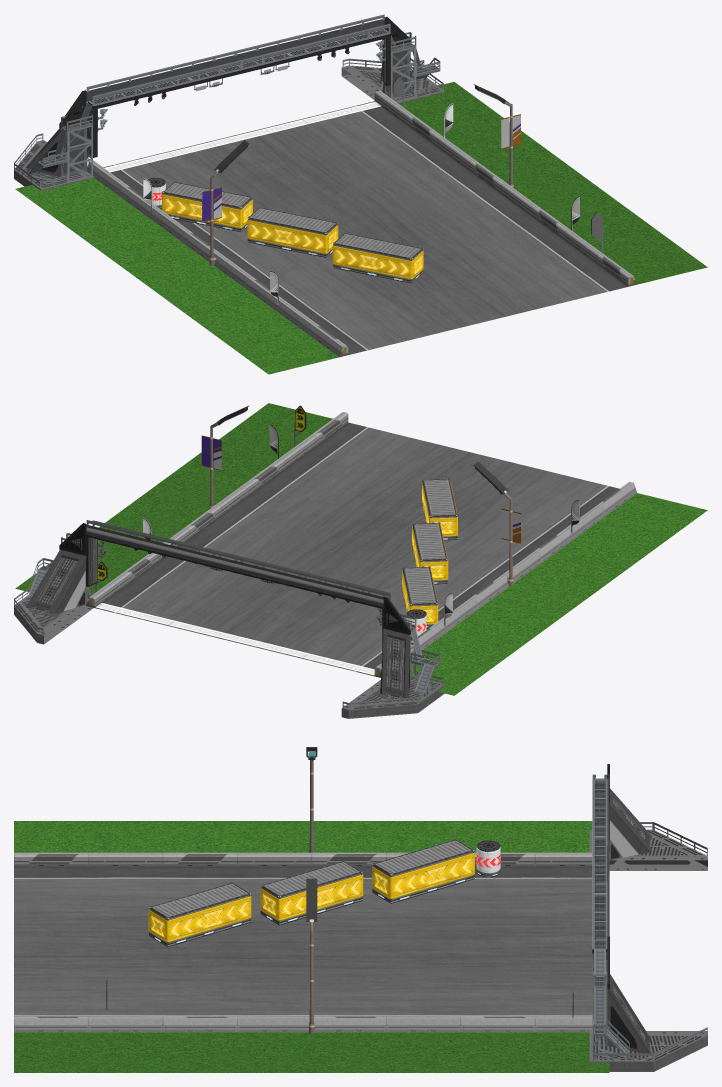
The model's file is T1 - Ground Checkpoint.fbx.
3 views of the same model, one above another, from view 1: azimuth 30°, elevation 25°; view 2: azimuth 150°, elevation 25°; view 3: azimuth 270°, elevation 25° (orthographic). The views are drawn at different scales.
Parts seen in each view (by area): view 1: standard_road, standard_ground_grass, gate, wall_straight_ground, bridge, line, cover_3, cover_2, frame_3, frame_2, cover_1, frame_1 (+4 smaller); view 2: standard_road, standard_ground_grass, gate, wall_straight_ground, bridge, line, pro_streetlight_banner_1, frame_3, frame_2, frame_1, pro_streetlight_banner, prop_sta_street_flags (+4 smaller); view 3: standard_road, standard_ground_grass, wall_straight_ground, gate, bridge, cover_3, cover_1, frame_3, frame_1, frame_2, cover_2, pro_streetlight_banner (+1 smaller).
Part boxes in pixels (left/top/right/bottom): standard_road: left=103, top=101, right=627, bottom=354; standard_ground_grass: left=15, top=82, right=707, bottom=374; gate: left=14, top=17, right=445, bottom=190; wall_straight_ground: left=87, top=90, right=636, bottom=357; bridge: left=79, top=14, right=397, bottom=125; line: left=104, top=101, right=381, bottom=172; cover_3: left=332, top=245, right=423, bottom=279; cover_2: left=247, top=220, right=338, bottom=253; frame_3: left=333, top=232, right=423, bottom=283; frame_2: left=247, top=207, right=338, bottom=257; cover_1: left=162, top=194, right=252, bottom=227; frame_1: left=162, top=181, right=252, bottom=231; standard_road: left=95, top=422, right=619, bottom=676; standard_ground_grass: left=15, top=403, right=707, bottom=695; gate: left=14, top=523, right=445, bottom=718; wall_straight_ground: left=86, top=412, right=636, bottom=677; bridge: left=86, top=520, right=390, bottom=608; line: left=96, top=603, right=374, bottom=675; pro_streetlight_banner_1: left=473, top=461, right=520, bottom=586; frame_3: left=422, top=478, right=457, bottom=540; frame_2: left=412, top=522, right=447, bottom=584; frame_1: left=402, top=566, right=437, bottom=628; pro_streetlight_banner: left=201, top=405, right=249, bottom=508; prop_sta_street_flags: left=143, top=424, right=579, bottom=625; standard_road: left=14, top=866, right=609, bottom=1016; standard_ground_grass: left=14, top=821, right=609, bottom=1072; wall_straight_ground: left=14, top=852, right=609, bottom=1032; gate: left=589, top=764, right=707, bottom=1071; bridge: left=592, top=774, right=609, bottom=976; cover_3: left=148, top=896, right=251, bottom=942; cover_1: left=372, top=852, right=474, bottom=898; frame_3: left=149, top=882, right=251, bottom=946; frame_1: left=372, top=838, right=474, bottom=903; frame_2: left=260, top=860, right=362, bottom=925; cover_2: left=260, top=874, right=363, bottom=920; pro_streetlight_banner: left=306, top=878, right=317, bottom=1033.
Size of the model in its own units: 6400 by 1769 by 7456.
